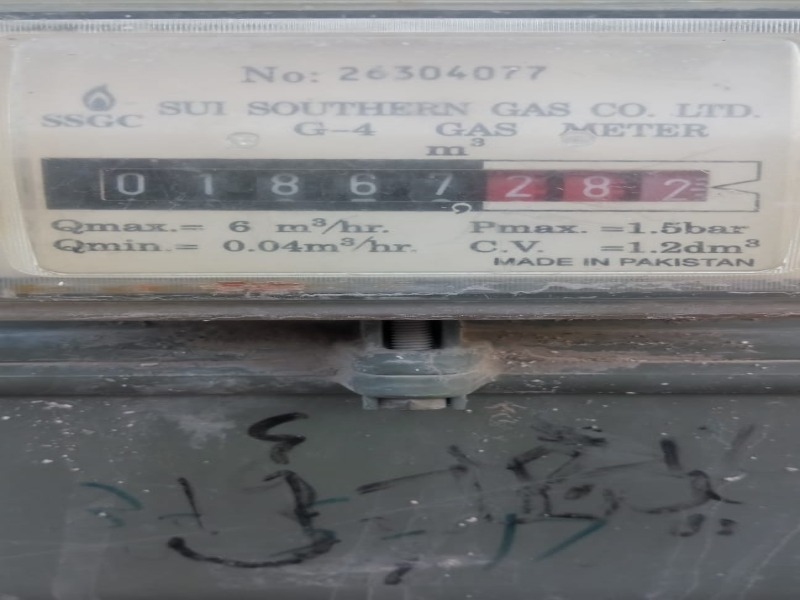ssgc: (72, 156, 736, 213)
